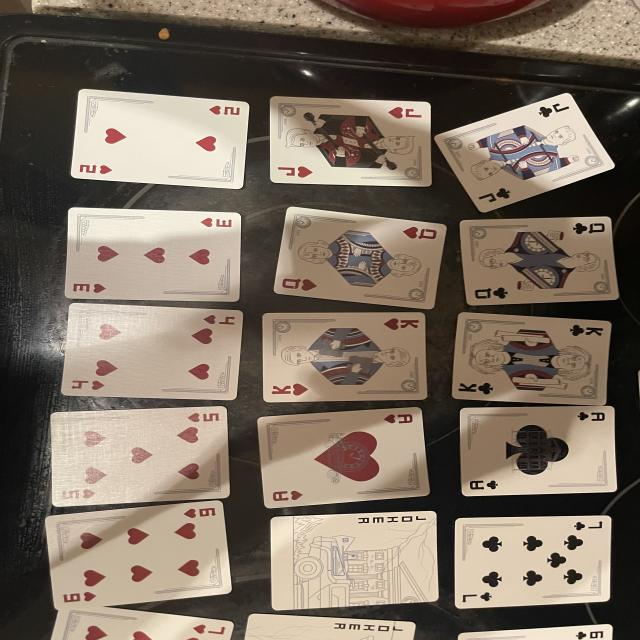2 of hearts: (70, 89, 248, 189)
3 of hearts: (65, 208, 242, 301)
4 of hearts: (62, 302, 243, 400)
5 of hearts: (50, 406, 230, 506)
6 of clubs: (458, 624, 613, 640)
6 of hearts: (45, 500, 232, 609)
7 of clubs: (455, 515, 612, 609)
7 of hearts: (52, 608, 233, 640)
Ace of clubs: (460, 406, 617, 496)
Ace of hearts: (258, 408, 430, 509)
Jack of clubs: (435, 94, 615, 211)
Jack of hearts: (270, 96, 432, 186)
Joker: (270, 511, 438, 610), (245, 614, 415, 640)
King of clubs: (452, 312, 612, 405)
King of hearts: (263, 312, 427, 402)
Queen of clubs: (460, 216, 618, 305)
Queen of hearts: (273, 206, 447, 309)
